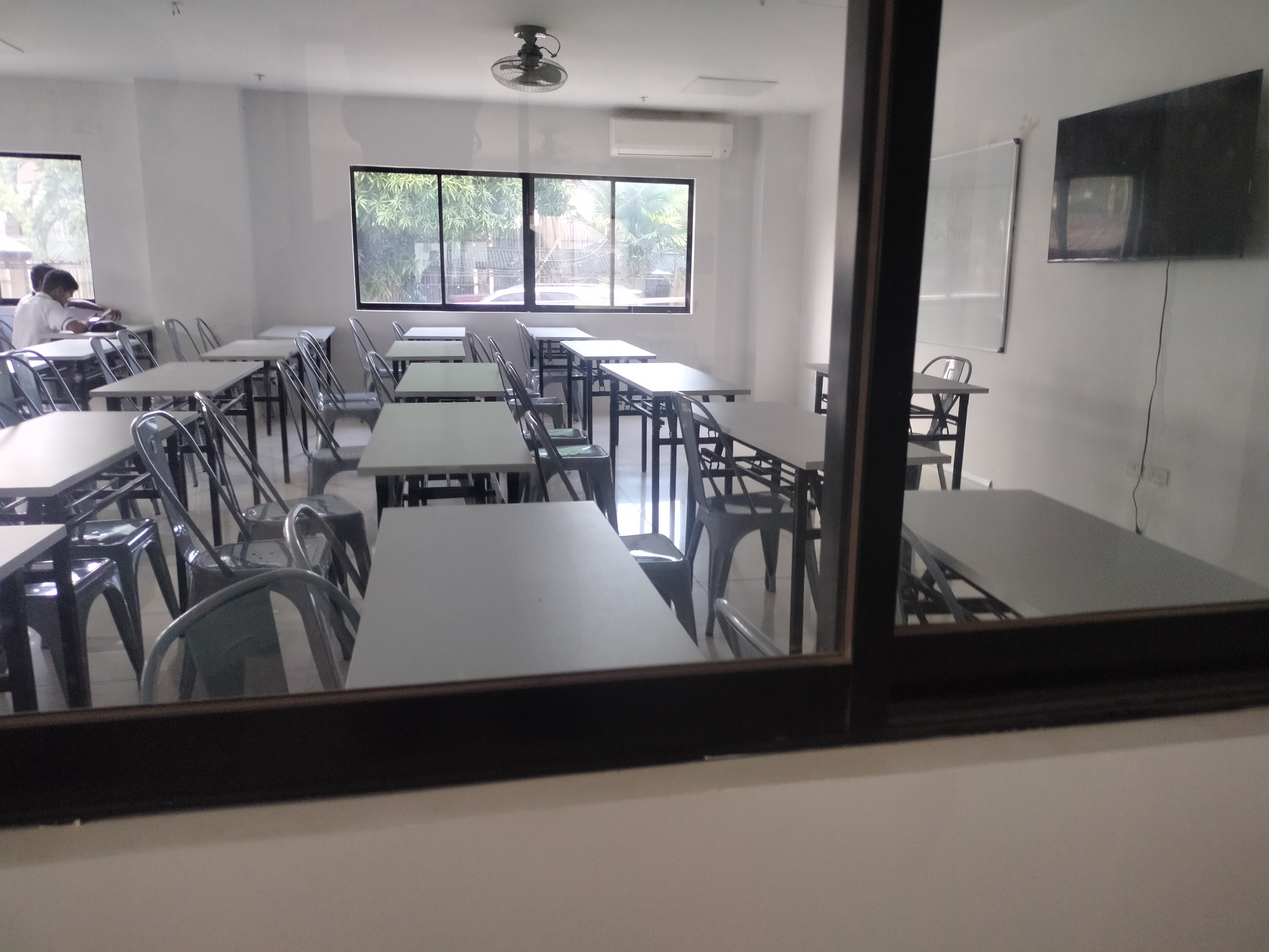with-student: (4, 259, 155, 345)
